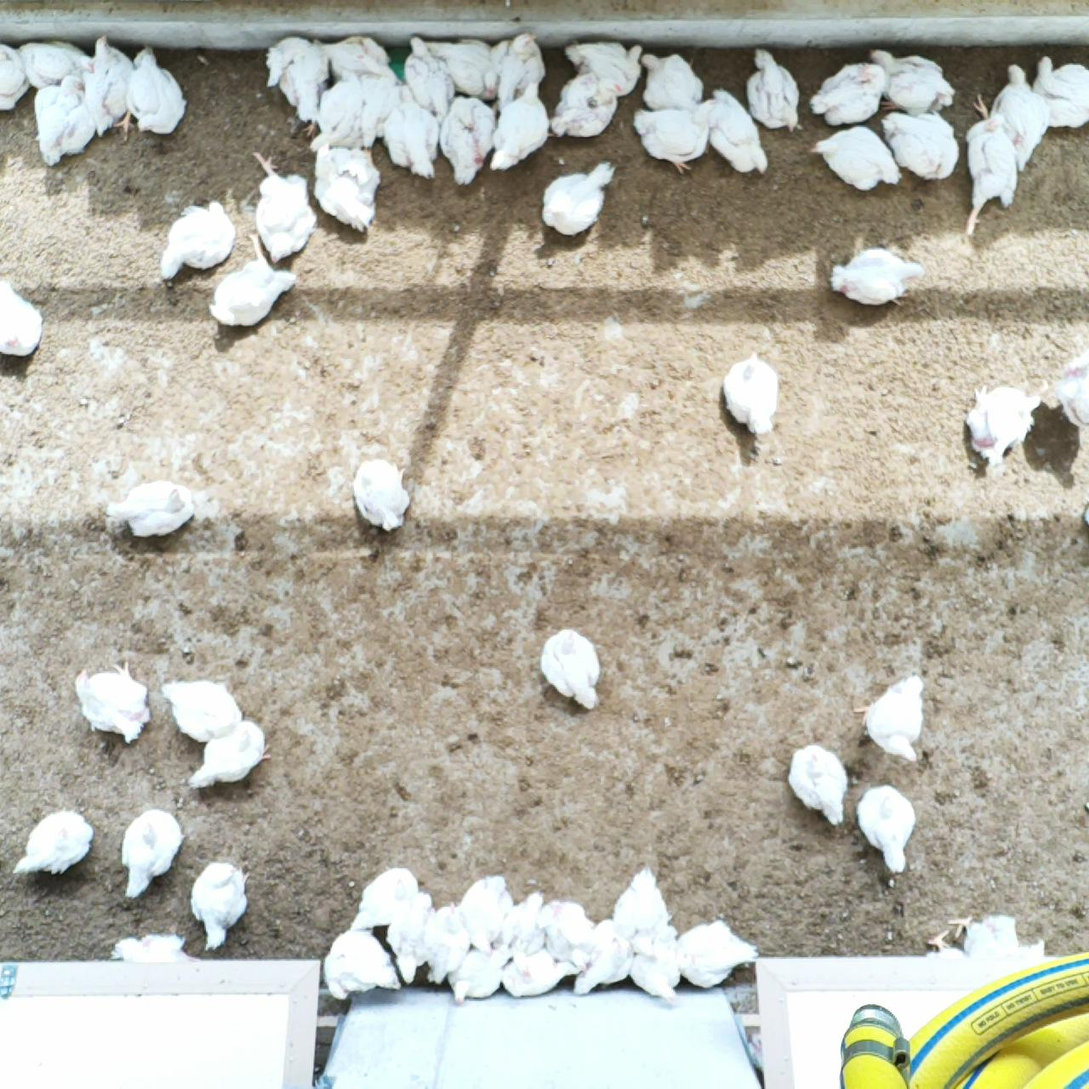chicken: (205, 230, 300, 335), (970, 59, 1051, 177), (246, 148, 320, 268), (824, 239, 929, 315), (961, 111, 1021, 242), (111, 46, 191, 144), (691, 81, 773, 175), (848, 671, 930, 765), (963, 374, 1045, 467), (806, 118, 903, 196), (630, 92, 716, 178), (183, 854, 255, 955), (10, 804, 97, 887), (116, 808, 190, 905), (866, 43, 959, 120), (308, 141, 384, 235), (264, 33, 331, 138), (159, 198, 238, 287), (73, 661, 154, 747), (187, 718, 271, 800), (317, 920, 402, 1000), (75, 30, 136, 140), (876, 108, 962, 186), (673, 915, 761, 991), (539, 158, 620, 240), (533, 626, 606, 716), (486, 77, 552, 176), (104, 475, 199, 543), (159, 674, 246, 747), (854, 781, 919, 878), (31, 75, 99, 167), (379, 91, 443, 183), (609, 861, 675, 949), (744, 45, 805, 139), (719, 348, 782, 438), (786, 741, 850, 828), (546, 72, 626, 141), (944, 908, 1046, 962), (436, 94, 494, 188), (384, 890, 440, 987), (349, 453, 416, 534), (349, 860, 422, 933), (807, 58, 882, 127), (633, 46, 706, 115), (572, 919, 636, 997), (563, 34, 646, 94), (428, 34, 502, 101), (418, 899, 470, 993), (460, 870, 516, 956), (403, 31, 455, 119), (491, 32, 548, 112), (1030, 53, 1089, 129), (316, 30, 396, 86), (307, 71, 360, 153), (17, 36, 94, 91), (540, 897, 596, 972), (0, 275, 47, 363), (502, 945, 577, 999), (447, 941, 507, 1006), (355, 66, 400, 148), (1050, 343, 1089, 426), (633, 945, 685, 1007), (108, 931, 198, 966), (505, 887, 546, 955), (0, 41, 32, 117)
